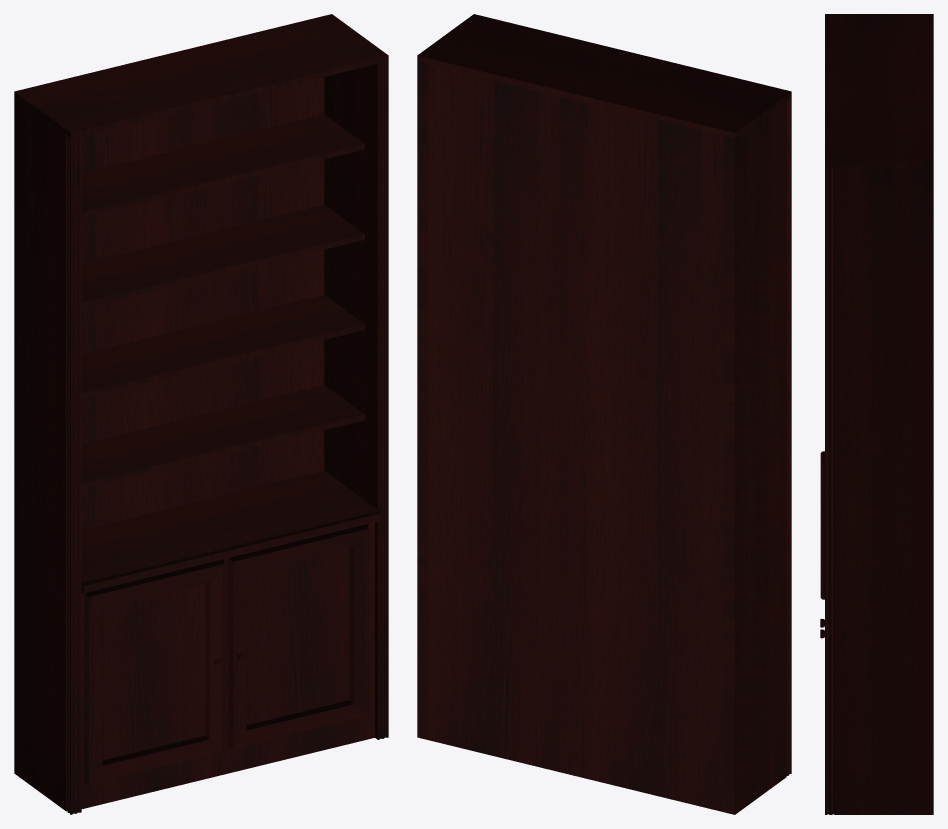
File: CUB048.fbx
3 views of the same model, side by side, from view 1: azimuth 30°, elevation 25°; view 2: azimuth 150°, elevation 25°; view 3: azimuth 270°, elevation 25° (orthographic). The views are drawn at different scales.
Parts seen in each view (by area): view 1: Cabinet; view 2: Cabinet; view 3: Cabinet.
Part boxes in pixels (x1,y1,x2,y2): Cabinet: [14, 14, 388, 814]; Cabinet: [417, 14, 791, 814]; Cabinet: [820, 14, 933, 814].
Bounding box in the file's own units: 4876 × 10000 × 1574.
1 material, 1 textured.
